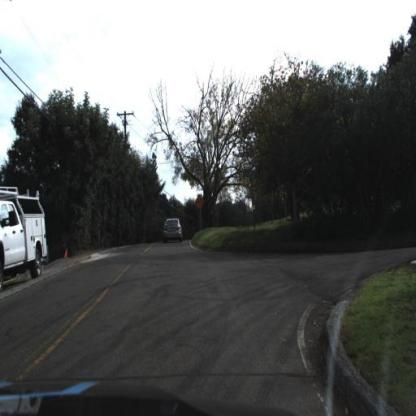car: (161, 216, 183, 246)
